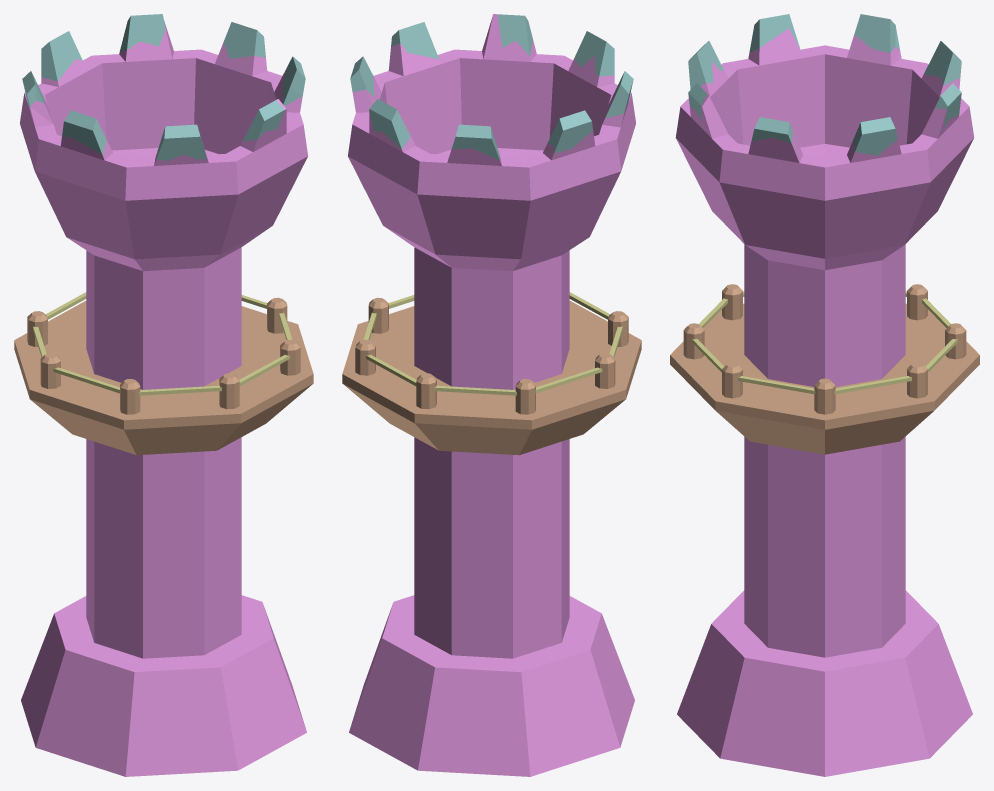
Rendered from TowerModel_Final.fbx.
The picture shows the model from 3 angles, left to right: view 1: azimuth 30°, elevation 25°; view 2: azimuth 150°, elevation 25°; view 3: azimuth 270°, elevation 25°; orthographic projection.
Parts seen in each view (by area): view 1: Toren, Platform, Touw, Torentje1, Torentje4, Torentje5, Torentje2, Torentje6, Torentje8, Torentje7; view 2: Toren, Platform, Touw, Torentje3, Torentje1, Torentje5, Torentje4, Torentje7, Torentje8, Torentje2, Torentje6; view 3: Toren, Platform, Touw, Torentje6, Torentje3, Torentje4, Torentje1, Torentje2, Torentje7, Torentje5.
Boxes of the visible parts, x1=… form: Toren: x1=20, y1=22, x2=307, y2=776; Platform: x1=14, y1=297, x2=313, y2=455; Touw: x1=33, y1=292, x2=292, y2=395; Torentje1: x1=156, y1=124, x2=207, y2=160; Torentje4: x1=41, y1=31, x2=82, y2=81; Torentje5: x1=120, y1=14, x2=165, y2=51; Torentje2: x1=62, y1=110, x2=106, y2=154; Torentje6: x1=223, y1=22, x2=265, y2=58; Torentje8: x1=242, y1=100, x2=284, y2=141; Torentje7: x1=282, y1=56, x2=305, y2=105; Toren: x1=348, y1=14, x2=635, y2=776; Platform: x1=342, y1=297, x2=641, y2=455; Touw: x1=363, y1=292, x2=622, y2=395; Torentje3: x1=547, y1=110, x2=592, y2=153; Torentje1: x1=574, y1=31, x2=614, y2=76; Torentje5: x1=369, y1=99, x2=410, y2=149; Torentje4: x1=451, y1=124, x2=499, y2=160; Torentje7: x1=391, y1=22, x2=438, y2=59; Torentje8: x1=497, y1=14, x2=533, y2=56; Torentje2: x1=605, y1=71, x2=633, y2=118; Torentje6: x1=350, y1=56, x2=373, y2=96; Toren: x1=675, y1=28, x2=974, y2=776; Platform: x1=670, y1=284, x2=979, y2=454; Touw: x1=692, y1=291, x2=957, y2=394; Torentje6: x1=853, y1=117, x2=897, y2=155; Torentje3: x1=854, y1=14, x2=899, y2=53; Torentje4: x1=924, y1=41, x2=961, y2=85; Torentje1: x1=688, y1=41, x2=723, y2=89; Torentje2: x1=749, y1=14, x2=800, y2=52; Torentje7: x1=751, y1=117, x2=793, y2=143; Torentje5: x1=935, y1=83, x2=961, y2=129.
Bounding box in the file's own units: 4.3 × 9.89 × 4.3.
